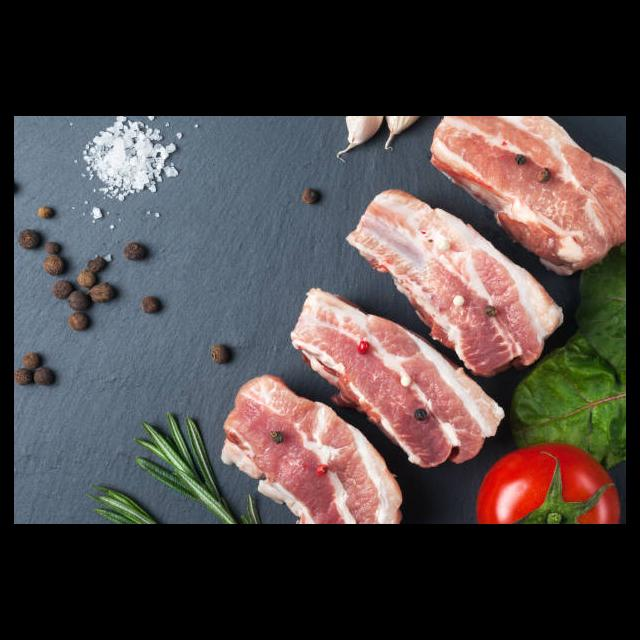pork: (349, 338, 500, 464), (438, 116, 626, 210), (419, 246, 561, 366), (223, 376, 330, 524), (474, 440, 625, 524)
